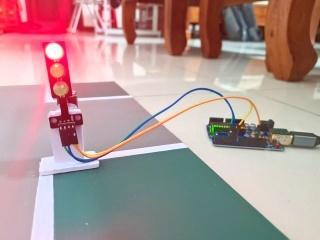red: (35, 33, 83, 104)
